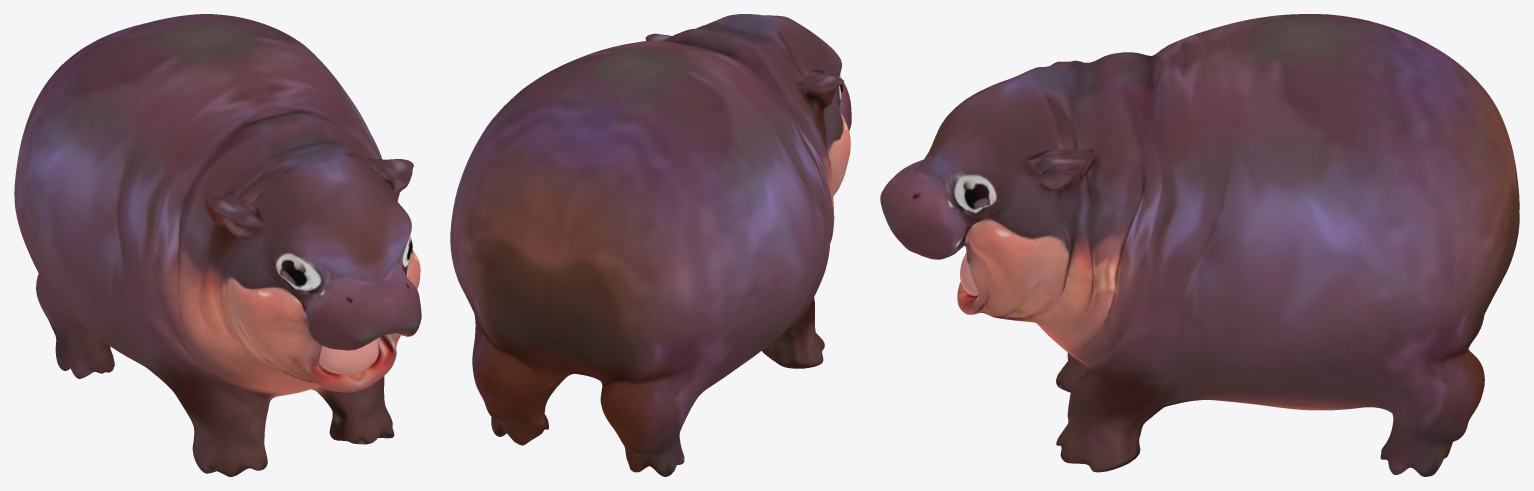
The model's file is moodeng.glb.
3 views of the same model, side by side, from view 1: azimuth 30°, elevation 25°; view 2: azimuth 150°, elevation 25°; view 3: azimuth 270°, elevation 25° (orthographic). The views are drawn at different scales.
Parts seen in each view (by area): view 1: tripo_node_3d139b0f-ac71-4e74-a60a-3d80f0339815_tripo_node_3, PM3D_Sphere3D1_PM3D_Sphere3D1_0; view 2: tripo_node_3d139b0f-ac71-4e74-a60a-3d80f0339815_tripo_node_3; view 3: tripo_node_3d139b0f-ac71-4e74-a60a-3d80f0339815_tripo_node_3.
Part boxes in pixels (bbox=[...]): tripo_node_3d139b0f-ac71-4e74-a60a-3d80f0339815_tripo_node_3: bbox=[14, 14, 421, 476]; PM3D_Sphere3D1_PM3D_Sphere3D1_0: bbox=[319, 339, 378, 374]; tripo_node_3d139b0f-ac71-4e74-a60a-3d80f0339815_tripo_node_3: bbox=[450, 14, 851, 476]; tripo_node_3d139b0f-ac71-4e74-a60a-3d80f0339815_tripo_node_3: bbox=[880, 14, 1519, 476].
Bounding box in the file's own units: 0.4962 × 0.5314 × 0.7774.
2 materials, 1 textured.
